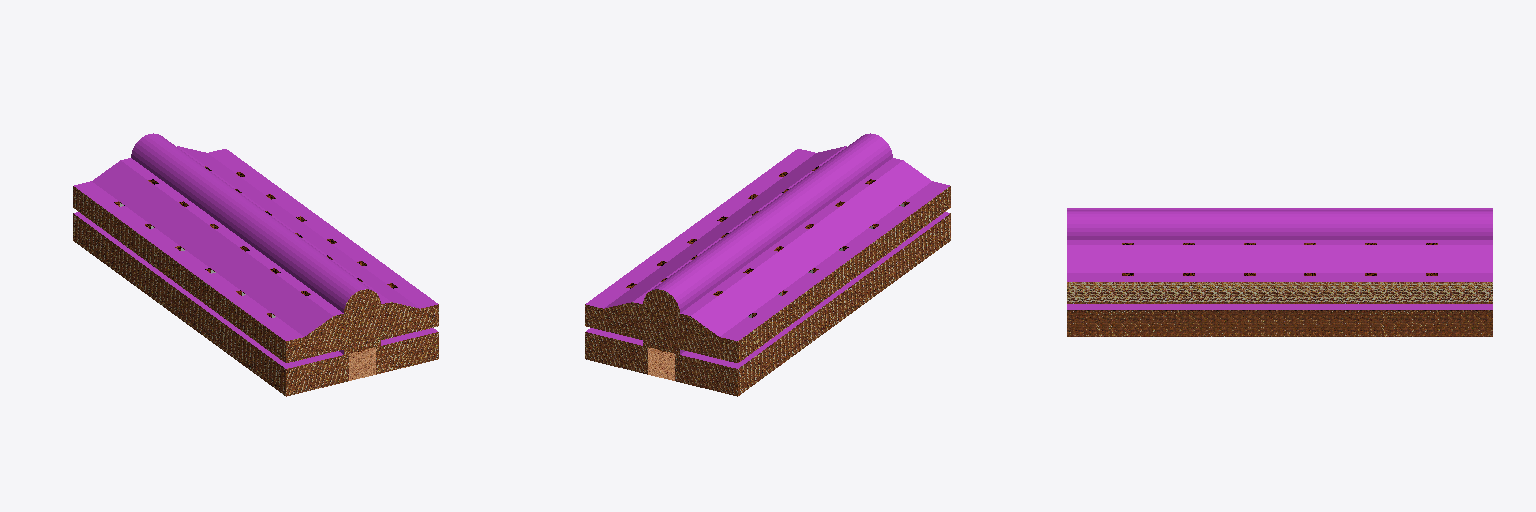
3 renders of one model, left to right at view 1: azimuth 30°, elevation 25°; view 2: azimuth 150°, elevation 25°; view 3: azimuth 270°, elevation 25°, orthographic.
Visible parts, largest first — view 1: Plane; view 2: Plane; view 3: Plane.
Boxes of the visible parts, box(x1,y1,x2,y2) form: Plane: box(73, 133, 438, 396); Plane: box(585, 133, 950, 396); Plane: box(1067, 208, 1492, 336).
Bounding box in the file's own units: 5.8 × 3.2 × 14.
5 materials, 3 textured.